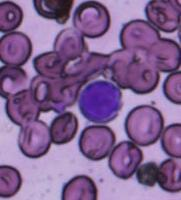L: (78, 79, 122, 124)
